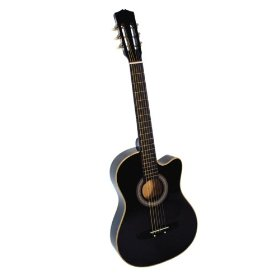guitar: (107, 8, 198, 268)
